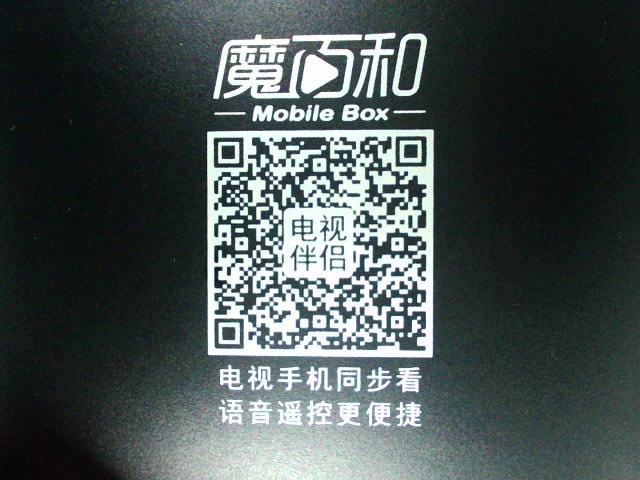AZ_MobileBox: (193, 31, 432, 427)
